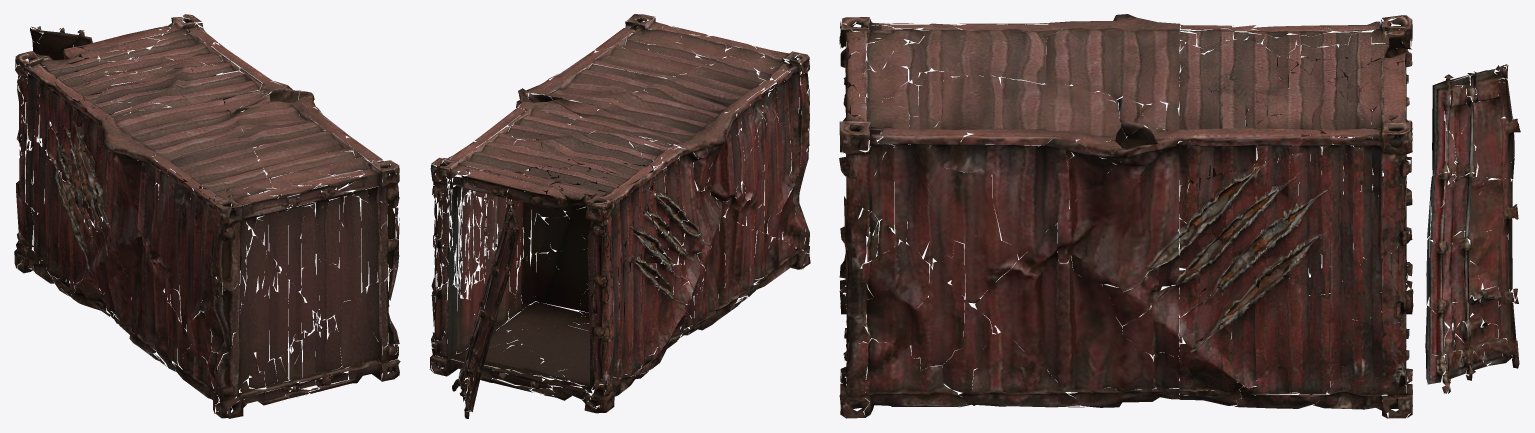
Rendered from p_container.glb.
The picture shows the model from 3 angles, left to right: view 1: azimuth 30°, elevation 25°; view 2: azimuth 150°, elevation 25°; view 3: azimuth 270°, elevation 25°; orthographic projection. The views are drawn at different scales.
Visible parts, largest first — view 1: tripo_node_fb1fe629-9fd8-4bc7-ae4c-060692d741d2; view 2: tripo_node_fb1fe629-9fd8-4bc7-ae4c-060692d741d2; view 3: tripo_node_fb1fe629-9fd8-4bc7-ae4c-060692d741d2.
Boxes of the visible parts, left/top/right/bottom form: tripo_node_fb1fe629-9fd8-4bc7-ae4c-060692d741d2: left=14, top=14, right=400, bottom=418; tripo_node_fb1fe629-9fd8-4bc7-ae4c-060692d741d2: left=429, top=14, right=810, bottom=418; tripo_node_fb1fe629-9fd8-4bc7-ae4c-060692d741d2: left=839, top=14, right=1520, bottom=418.
Size of the model in its own units: 0.468 by 0.4576 by 0.9812.
Materials: 1 (1 with a texture image).
